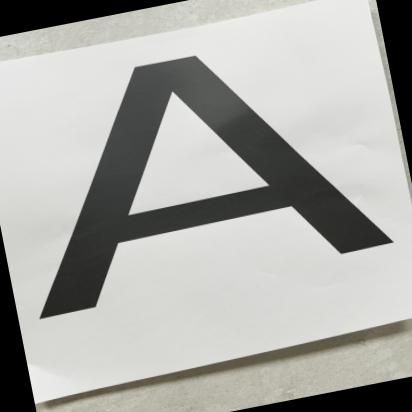seat: (0, 5, 412, 373)
